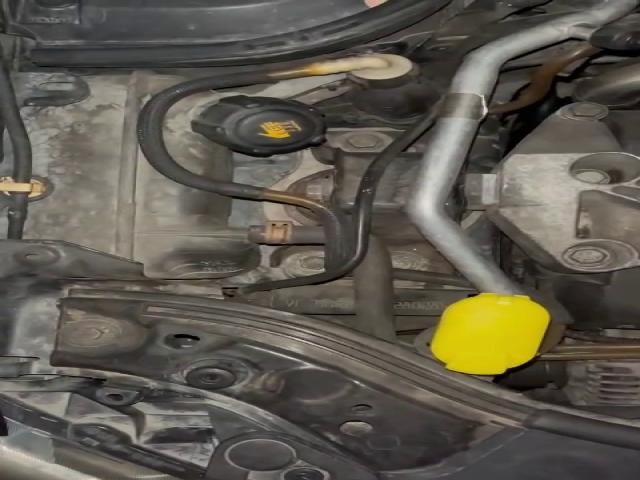antifreeze_tank: (22, 71, 258, 279), (163, 92, 325, 180)
